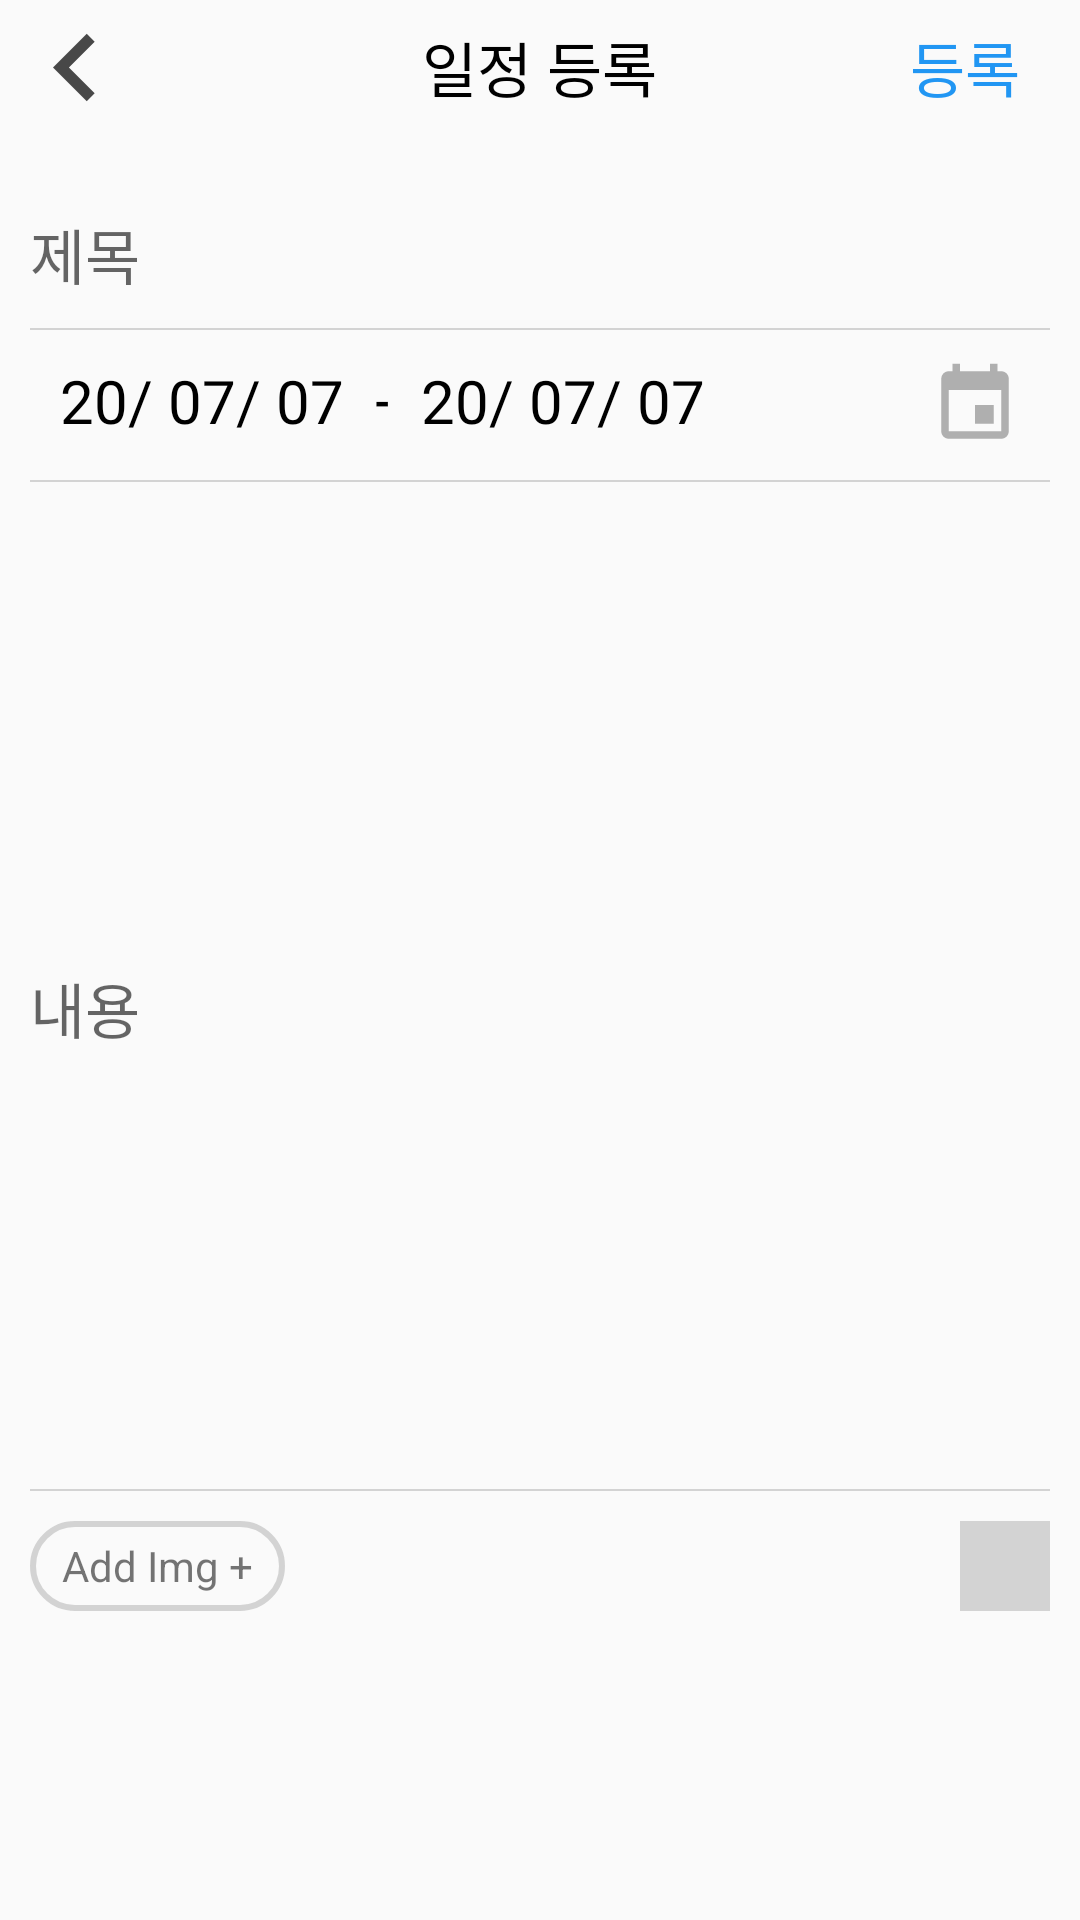

Screen size 1080×1920. Icon name, then its box in pixels as (x1, y1, x2, y2):
back: (53, 34, 95, 101)
calendar afafaf: (941, 364, 1009, 439)
